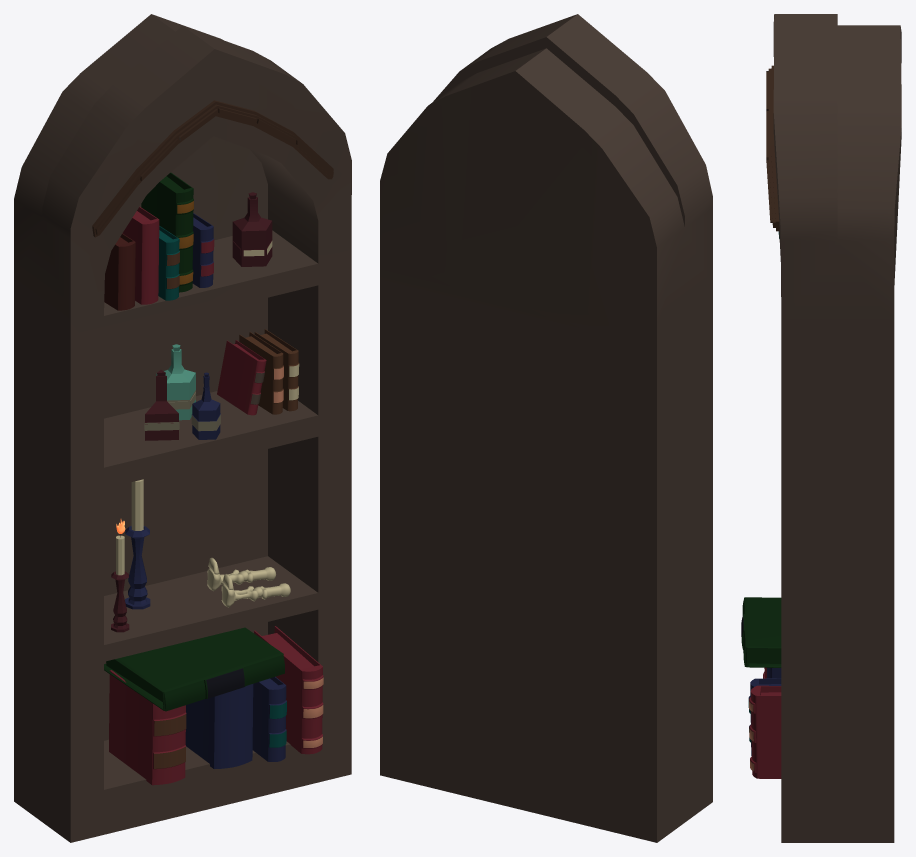
The picture shows the model from 3 angles, left to right: view 1: azimuth 30°, elevation 25°; view 2: azimuth 150°, elevation 25°; view 3: azimuth 270°, elevation 25°; orthographic projection.
Parts seen in each view (by area): view 1: Library 4.001, Libro .002, Libro .004, Libro .039, Libro .040, Libro .027, Libro .003, Libro .034, Libro .028, Potion 2.002, Libro .033, Candelabro piccolo.002 (+9 smaller); view 2: Library 4.001; view 3: Library 4.001, Libro .040, Libro .002, Libro .003.
Part boxes in pixels (x1,y1,x2,y2): Library 4.001: (14, 14, 351, 842); Libro .002: (104, 627, 284, 711); Libro .004: (109, 670, 186, 785); Libro .039: (185, 684, 253, 768); Libro .040: (254, 626, 323, 754); Libro .027: (141, 172, 193, 292); Libro .003: (252, 676, 286, 761); Libro .034: (217, 340, 266, 415); Libro .028: (122, 206, 159, 304); Potion 2.002: (232, 192, 272, 266); Libro .033: (104, 233, 135, 310); Candelabro piccolo.002: (125, 479, 150, 609); Library 4.001: (380, 14, 712, 842); Library 4.001: (766, 14, 901, 842); Libro .040: (749, 685, 781, 778); Libro .002: (741, 597, 781, 667); Libro .003: (748, 678, 781, 755).
Bounding box in the file's own units: 200 × 519 × 99.18.
